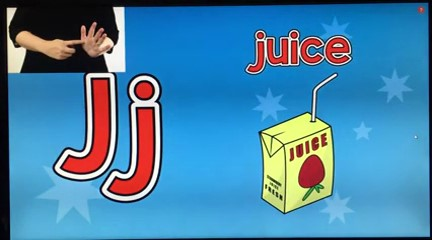J: (34, 19, 113, 61)
